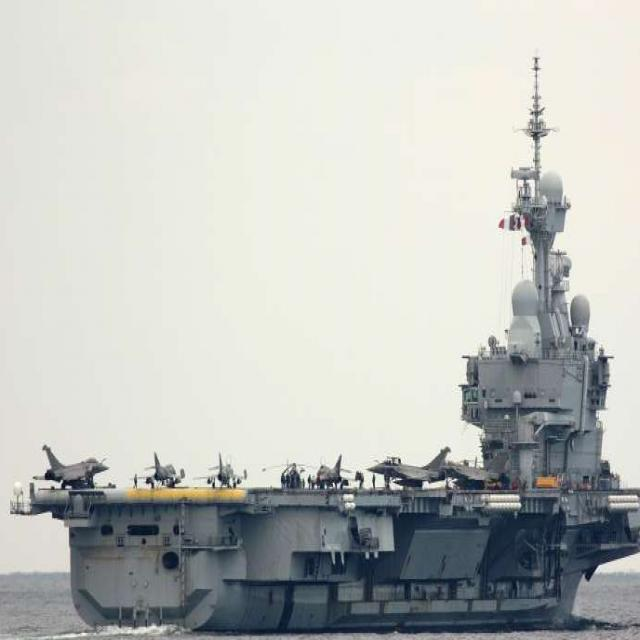Portanaves: (10, 45, 640, 640)
